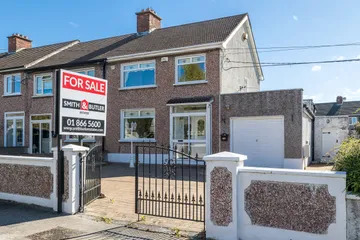property sign: (50, 60, 112, 143)
